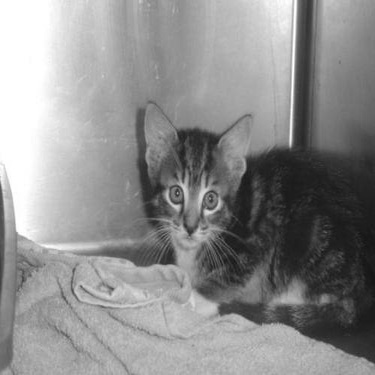cat: (135, 69, 353, 348)
